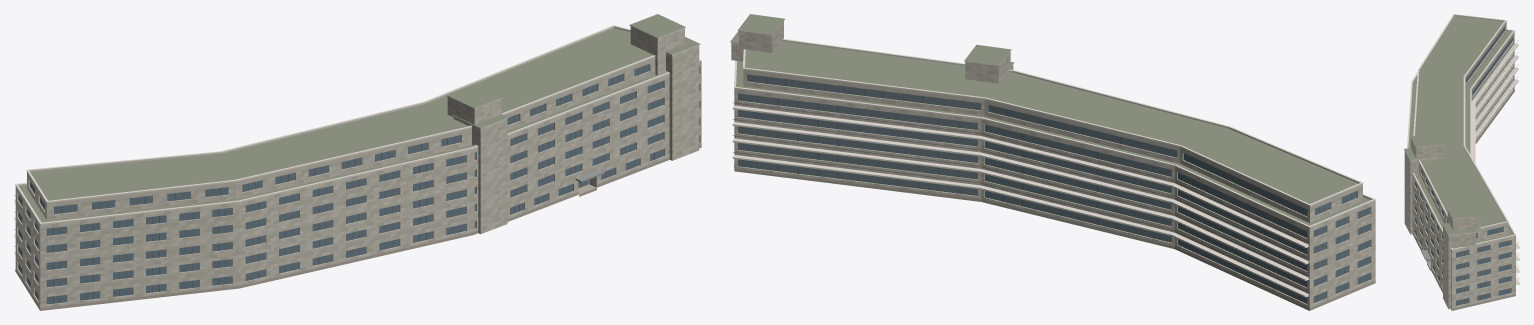
3 renders of one model, left to right at view 1: azimuth 30°, elevation 25°; view 2: azimuth 150°, elevation 25°; view 3: azimuth 270°, elevation 25°, orthographic. The views are drawn at different scales.
Parts seen in each view (by area): view 1: hanuri__wall, hanuri__roof, hanuri__glass, hanuri__trim, hanuri__parapet, hanuri__base, hanuri__frame; view 2: hanuri__wall, hanuri__glass, hanuri__roof, hanuri__trim, hanuri__frame, hanuri__parapet, hanuri__base; view 3: hanuri__roof, hanuri__wall, hanuri__trim, hanuri__glass, hanuri__parapet, hanuri__base, hanuri__frame.
Boxes of the visible parts, x1,y1,x2,y2 form: hanuri__wall: (15, 26, 701, 310); hanuri__roof: (19, 14, 699, 222); hanuri__glass: (18, 64, 699, 304); hanuri__trim: (14, 25, 701, 255); hanuri__parapet: (16, 26, 701, 225); hanuri__base: (15, 145, 701, 310); hanuri__frame: (14, 66, 659, 303); hanuri__wall: (731, 21, 1375, 310); hanuri__glass: (738, 74, 1370, 303); hanuri__roof: (730, 14, 1370, 225); hanuri__trim: (730, 19, 1375, 297); hanuri__frame: (733, 76, 1366, 301); hanuri__parapet: (734, 39, 1375, 228); hanuri__base: (734, 165, 1375, 310); hanuri__roof: (1404, 16, 1513, 248); hanuri__wall: (1404, 21, 1515, 310); hanuri__trim: (1404, 14, 1519, 284); hanuri__glass: (1414, 27, 1512, 305); hanuri__parapet: (1408, 15, 1515, 250); hanuri__base: (1412, 90, 1515, 310); hanuri__frame: (1422, 40, 1518, 304).
Bounding box in the file's own units: 126 × 22.8 × 27.14.
9 materials, 1 textured.
